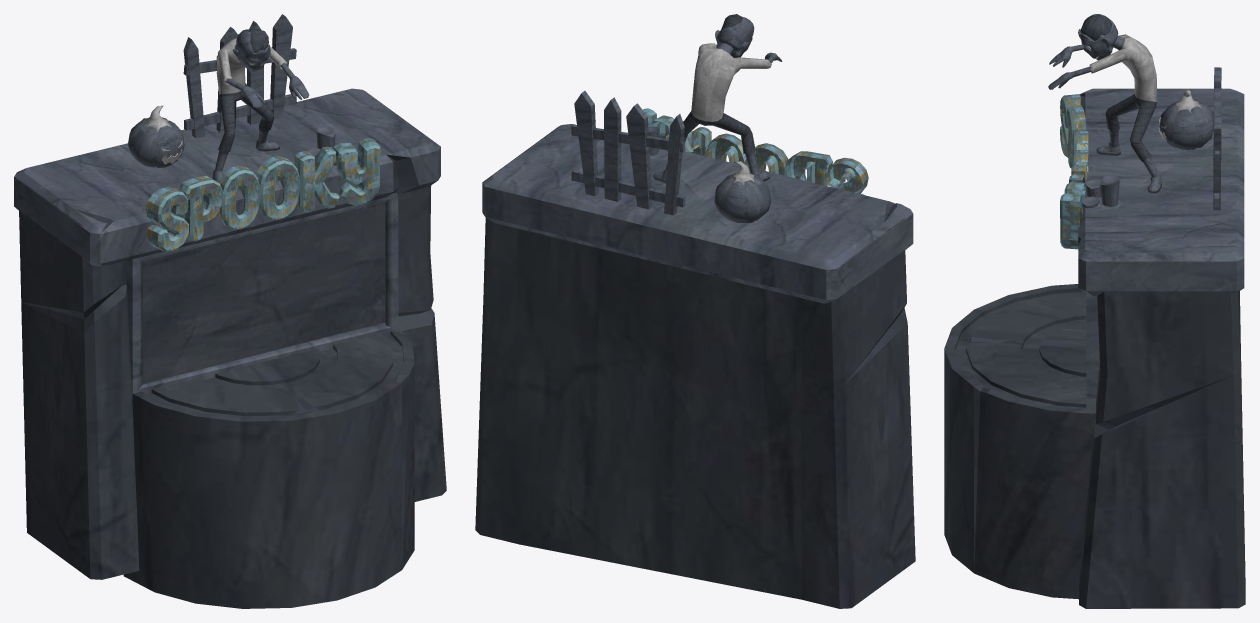
The model's file is stand-spooky01.glb.
The picture shows the model from 3 angles, left to right: view 1: azimuth 30°, elevation 25°; view 2: azimuth 150°, elevation 25°; view 3: azimuth 270°, elevation 25°; orthographic projection.
Visible parts, largest first — view 1: StandSpooky01; view 2: StandSpooky01; view 3: StandSpooky01.
Boxes of the visible parts, x1,y1,x2,y2 form: StandSpooky01: (14, 14, 446, 608); StandSpooky01: (475, 14, 915, 608); StandSpooky01: (944, 14, 1245, 608).
Size of what is drawn, in the model's own units: 11.13 by 15.34 by 8.14.
1 material, 1 textured.
